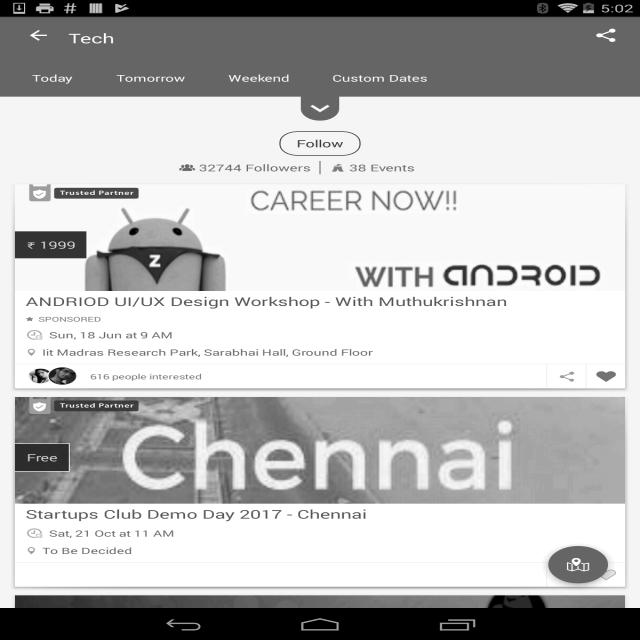ImageButton: (533, 532, 623, 597), (9, 14, 68, 57)
ImageView: (15, 184, 625, 291), (15, 397, 625, 504), (15, 595, 625, 640), (28, 182, 142, 202), (28, 396, 142, 416), (547, 364, 586, 388), (547, 562, 586, 586), (587, 364, 625, 388), (587, 562, 625, 586), (301, 96, 339, 120), (46, 366, 80, 388), (26, 367, 56, 386)
TextView: (26, 293, 625, 309), (26, 506, 625, 522), (68, 29, 564, 47), (26, 329, 614, 341), (26, 346, 614, 358), (26, 528, 614, 540), (26, 544, 614, 556), (90, 372, 536, 382), (316, 66, 444, 90), (100, 66, 201, 90), (212, 66, 306, 90), (15, 231, 87, 259), (280, 131, 360, 156), (16, 66, 89, 90), (178, 161, 311, 174), (580, 19, 632, 52), (15, 443, 70, 472), (329, 161, 416, 174), (26, 314, 101, 324)
